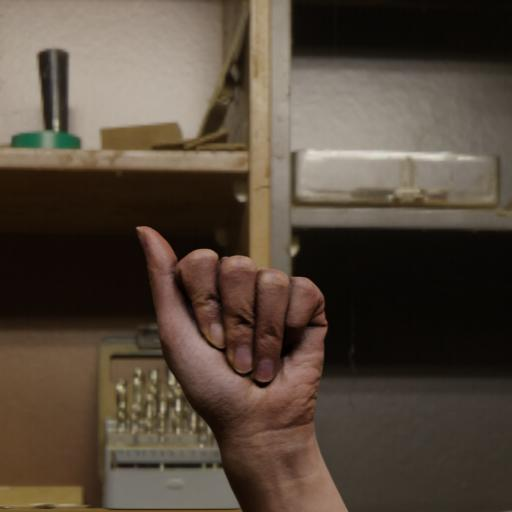A: (134, 220, 333, 430)
